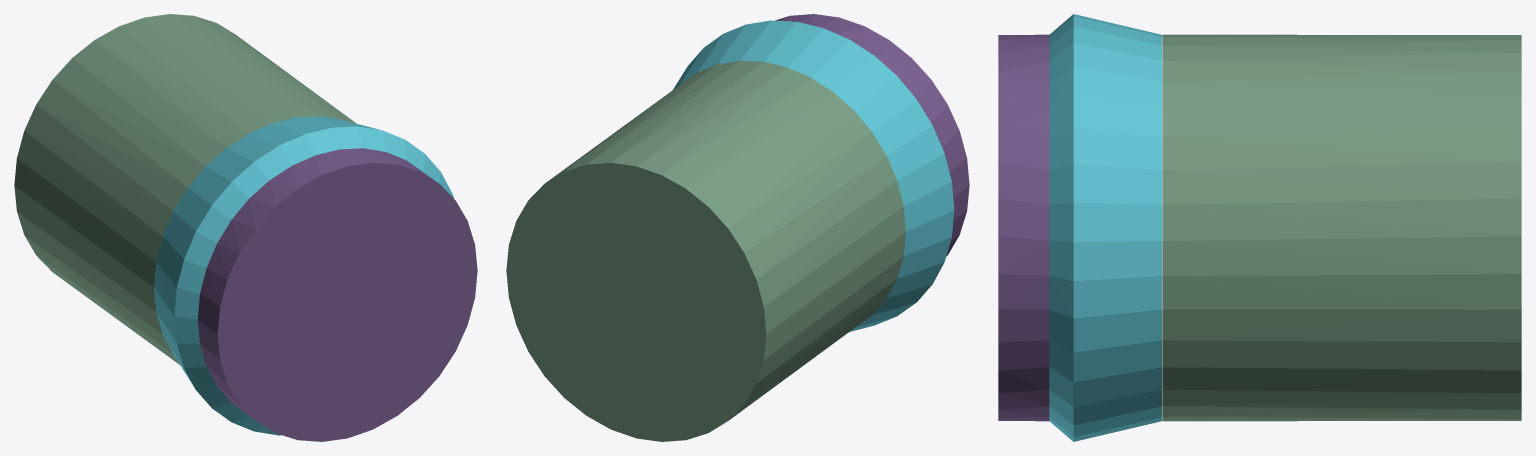
File: forearm_E3M5.obj
3 views of the same model, side by side, from view 1: azimuth 30°, elevation 25°; view 2: azimuth 150°, elevation 25°; view 3: azimuth 270°, elevation 25° (orthographic). The views are drawn at different scales.
Parts seen in each view (by area): view 1: geometry_1, geometry_0, geometry_2; view 2: geometry_0, geometry_2, geometry_1; view 3: geometry_0, geometry_2, geometry_1.
Boxes of the visible parts, x1,y1,x2,y2 form: geometry_1: [197, 148, 477, 441]; geometry_0: [14, 14, 356, 364]; geometry_2: [154, 116, 453, 435]; geometry_0: [506, 60, 905, 441]; geometry_2: [672, 20, 954, 331]; geometry_1: [775, 14, 969, 256]; geometry_0: [1162, 34, 1521, 421]; geometry_2: [1049, 14, 1161, 441]; geometry_1: [998, 34, 1049, 421].
Bounding box in the file's own units: 150 × 149 × 183.
